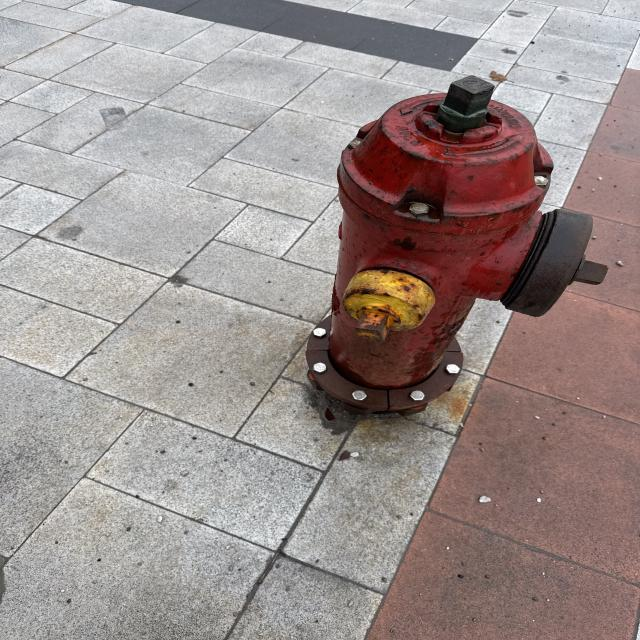Fire hydrant: (304, 74, 609, 420)
